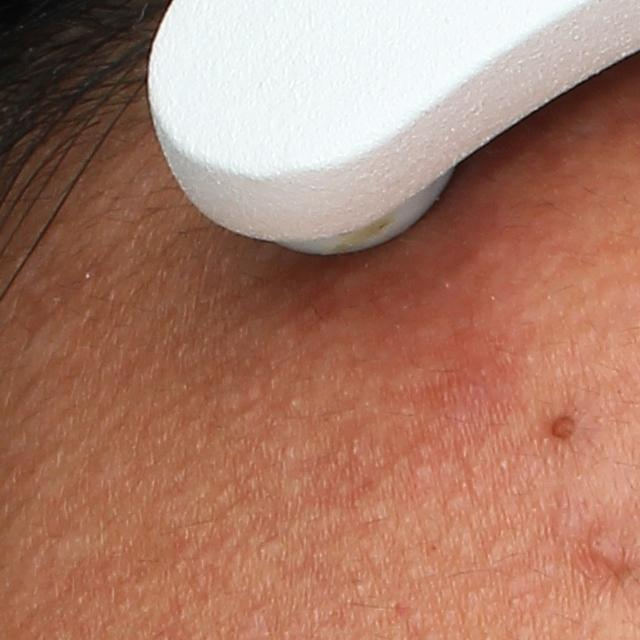comedo: (283, 393, 301, 412)
papule: (545, 409, 588, 452)
